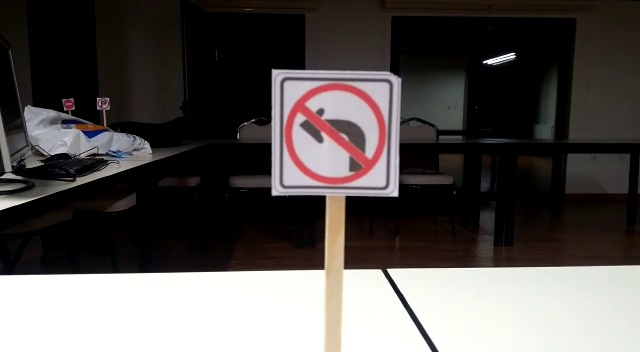sola_donulmez: (278, 80, 389, 186)
